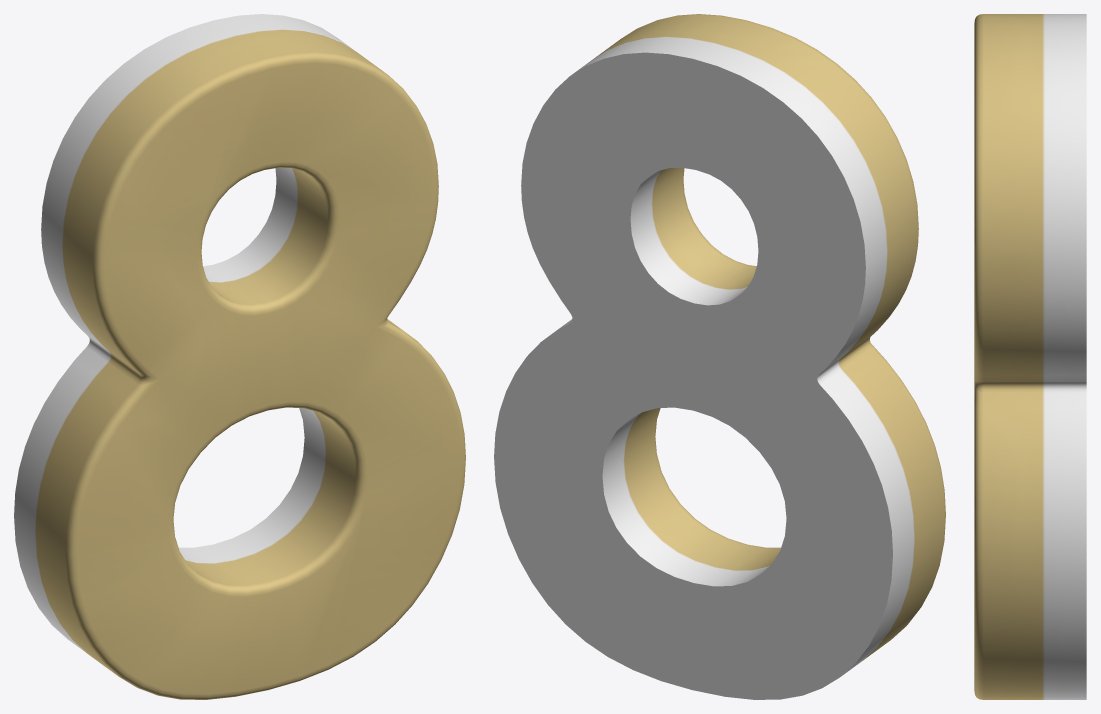
The model's file is LettersLightUp01_8.FBX.
3 renders of one model, left to right at view 1: azimuth 30°, elevation 25°; view 2: azimuth 150°, elevation 25°; view 3: azimuth 270°, elevation 25°, orthographic.
Parts seen in each view (by area): view 1: LettersLightUp01_8; view 2: LettersLightUp01_8; view 3: LettersLightUp01_8.
Part boxes in pixels (bbox=[...]): LettersLightUp01_8: bbox=[14, 14, 465, 699]; LettersLightUp01_8: bbox=[494, 14, 945, 699]; LettersLightUp01_8: bbox=[974, 14, 1086, 699].
Size of what is drawn, in the model's own units: 0.4169 by 0.6305 by 0.1012.
